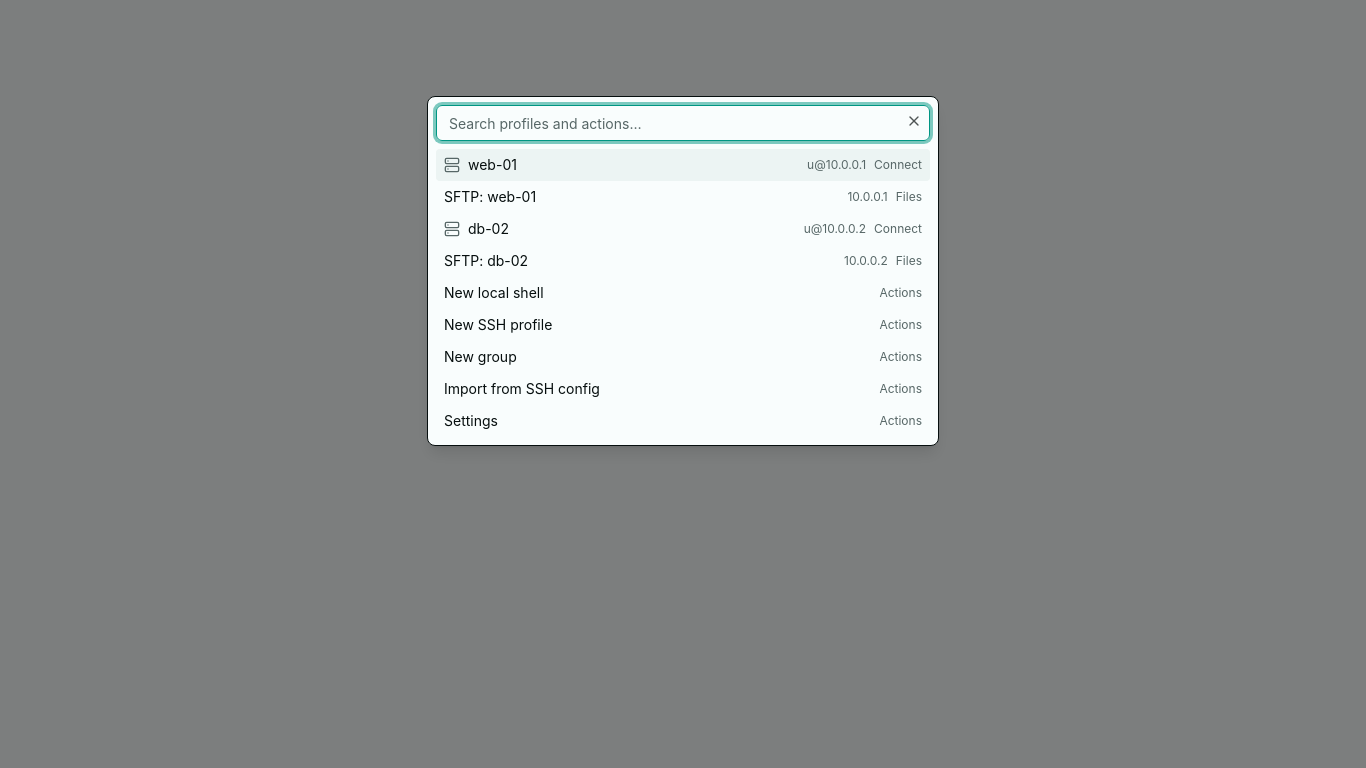
lists profiles and actions, and filters by subsequence
Expected: the text "web-01" is shown, [468,156,517,173]
Expected: the text "New local shell" is shown, [444,284,544,301]
Type "wb01" into the field with placeholder "Search profiles and actions…" at (683, 123), box [436,105,930,141]
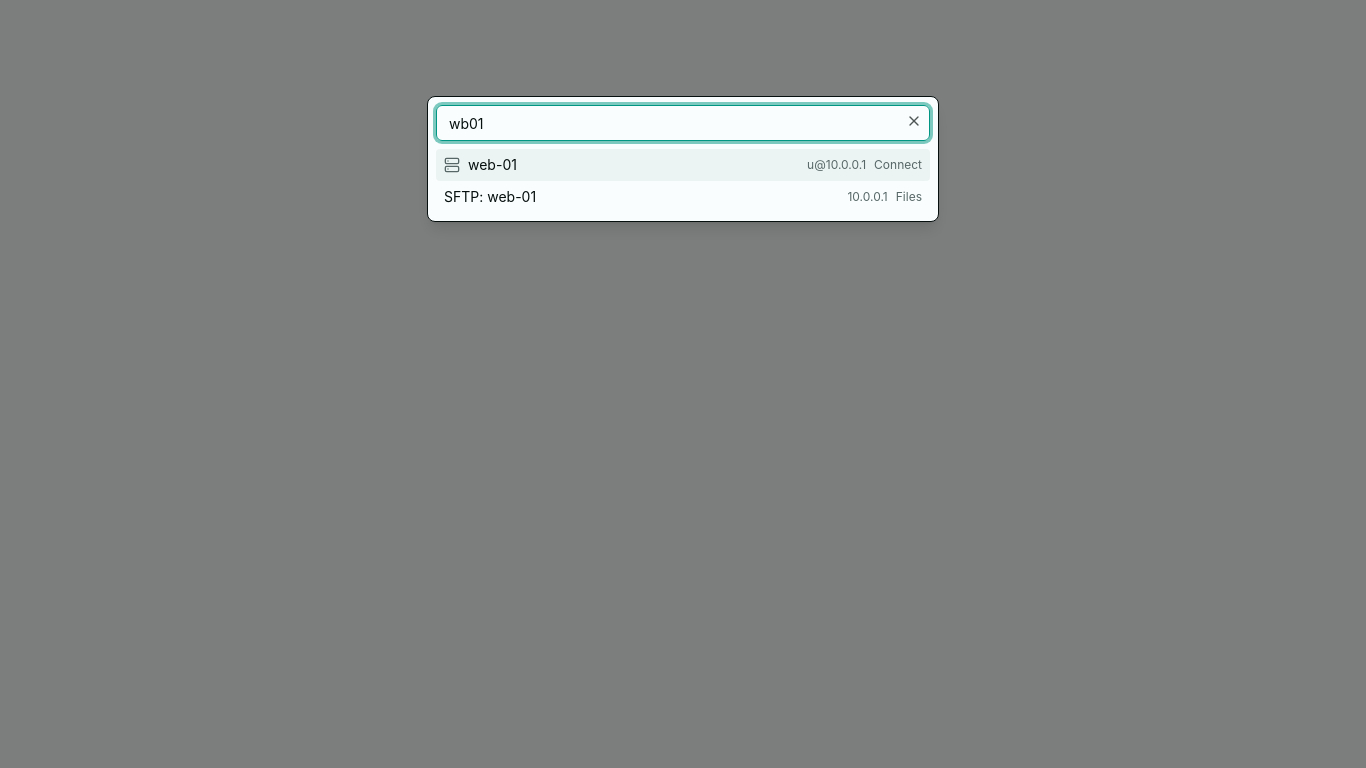
Expected: the text "web-01" is shown, [468,156,517,173]
Expected: the button "db-02" is gone
